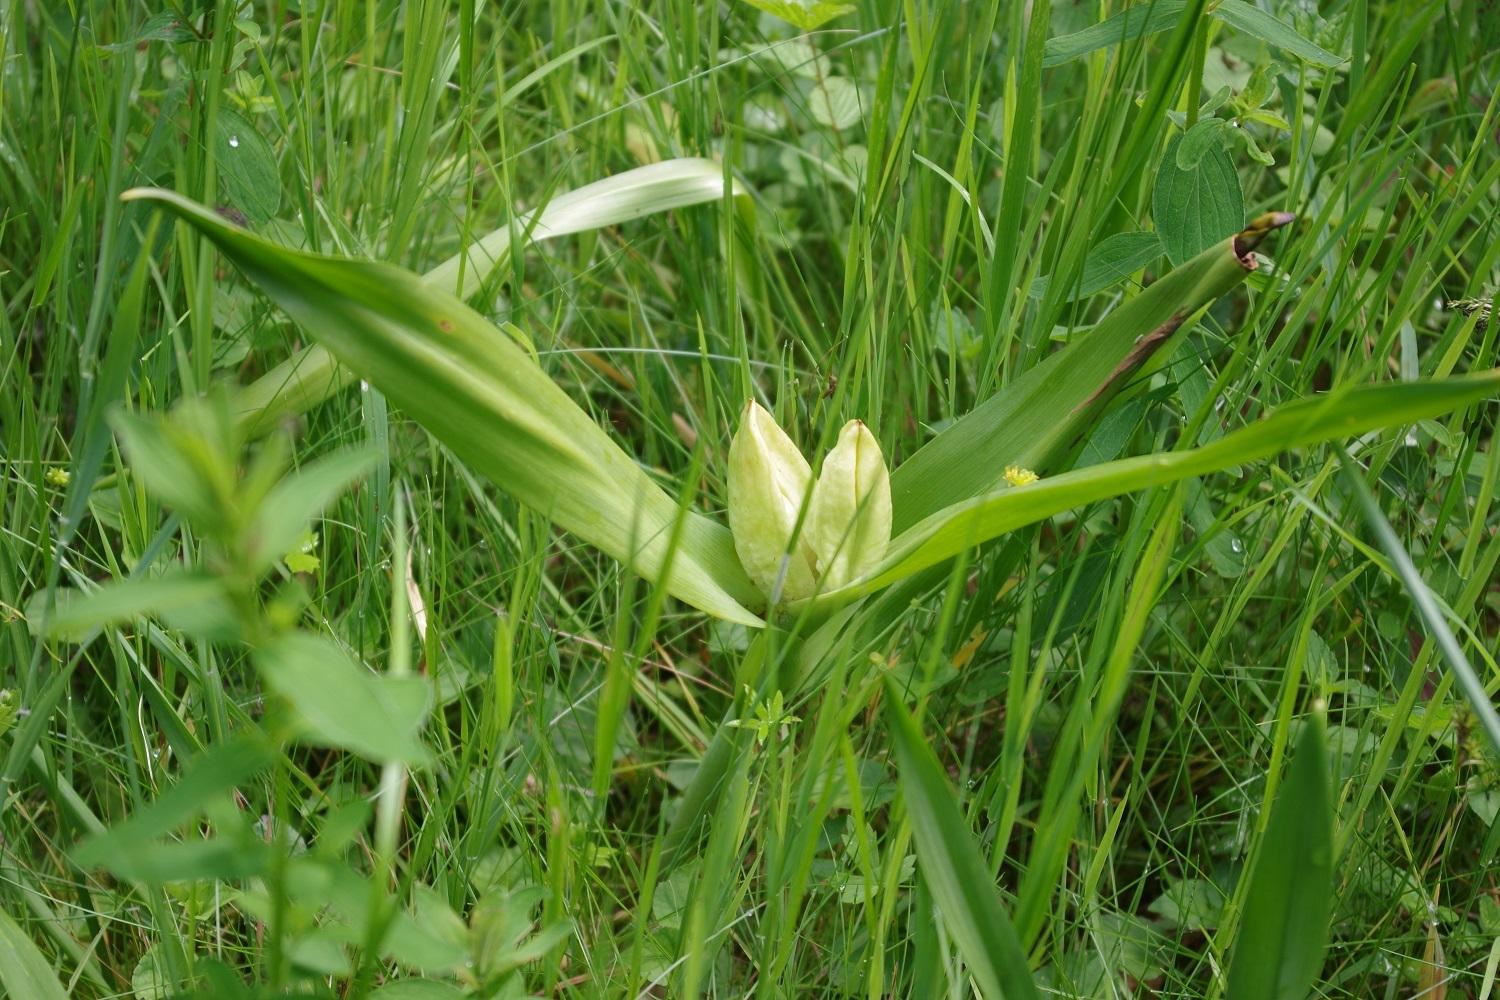Colchicum autumnale L: (114, 156, 1500, 708)
